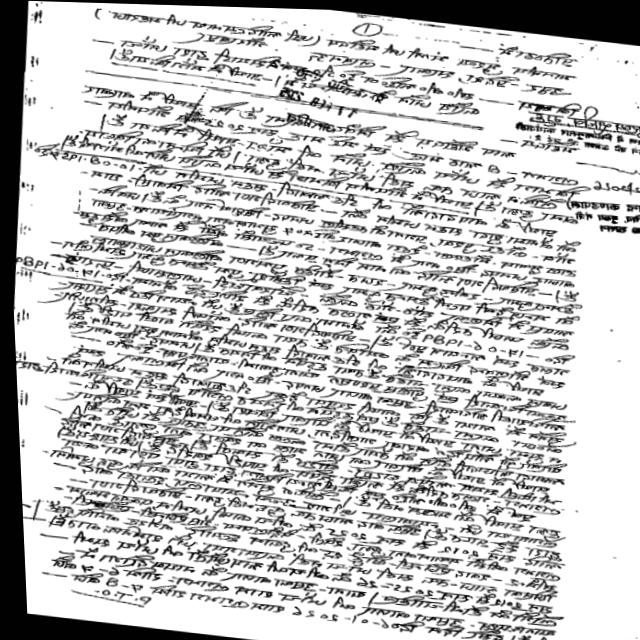antritgovtstamp: (251, 54, 393, 138)
signnamestamp: (556, 156, 640, 244)
